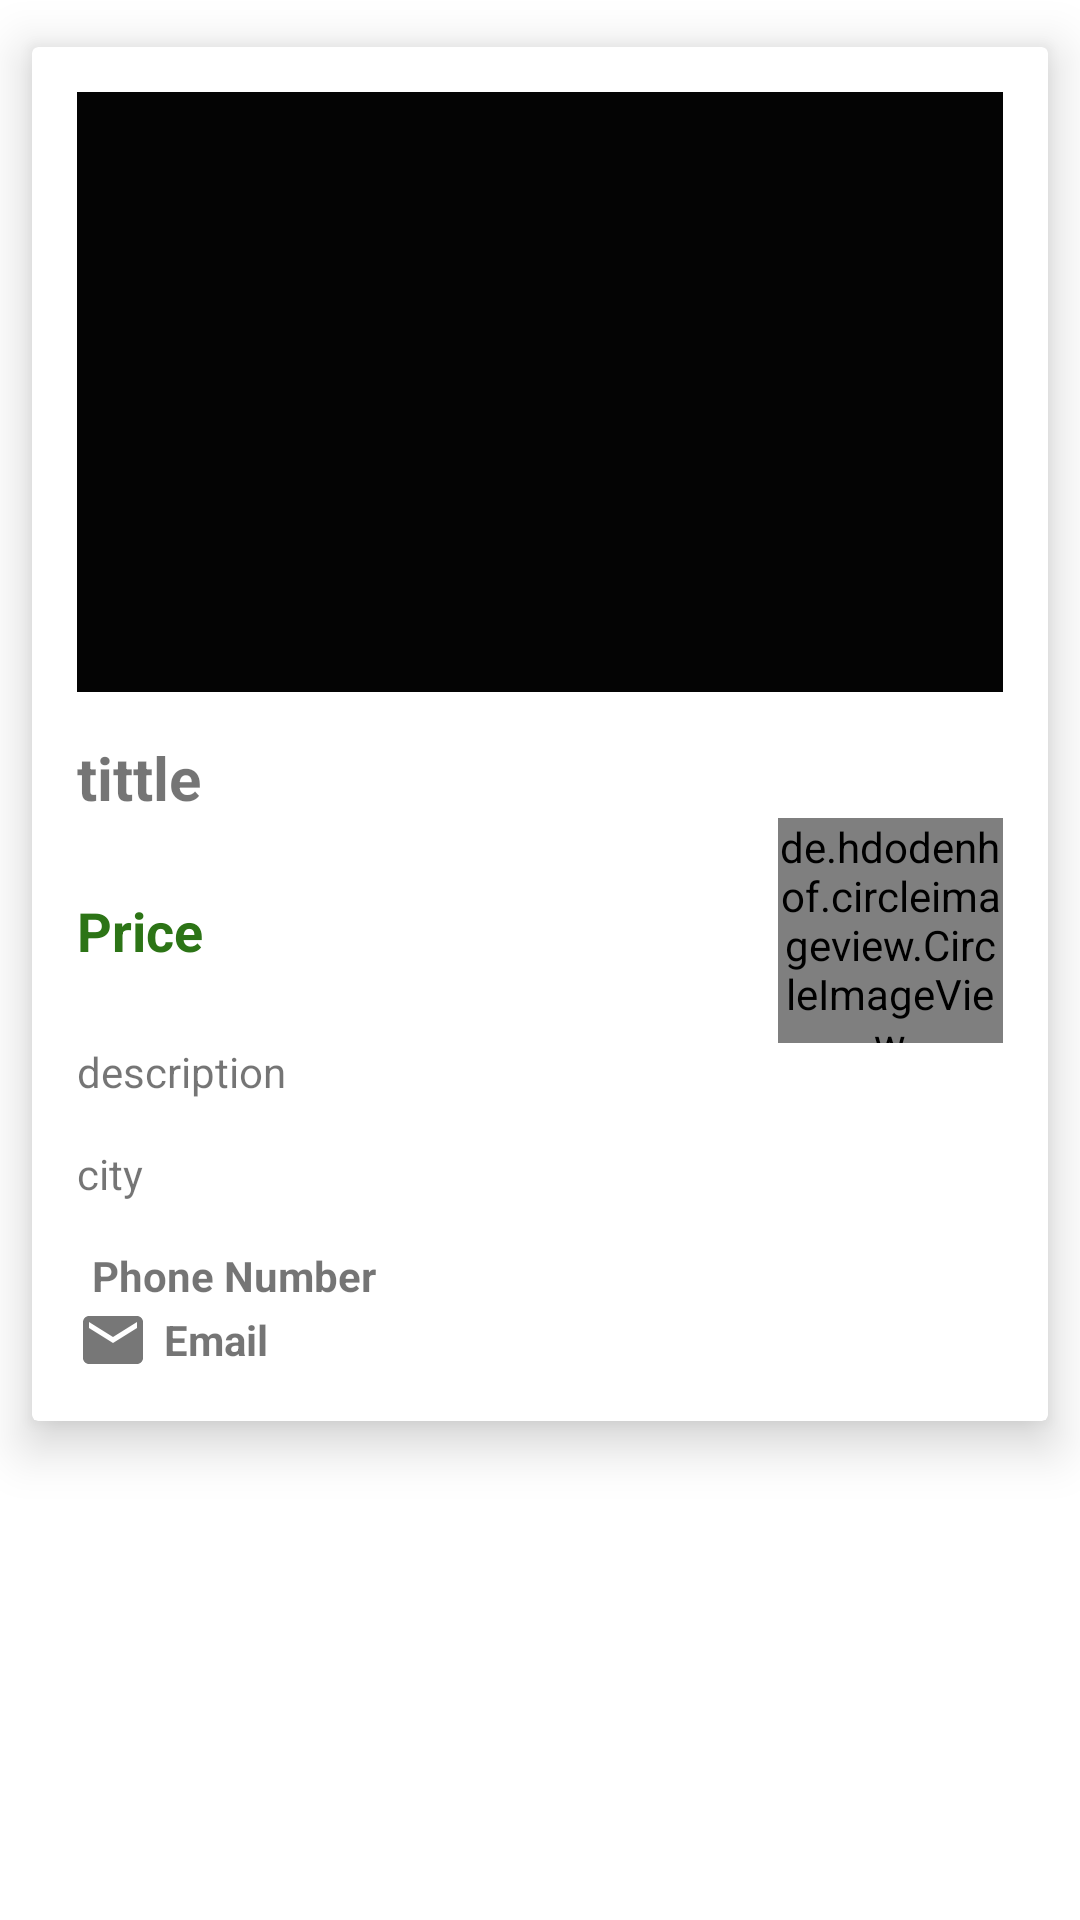

Locate icon controls on the screen. Image size 1080w x 1920h, boxes as (x1, y1, x2, y2).
message: (83, 1316, 143, 1364)
